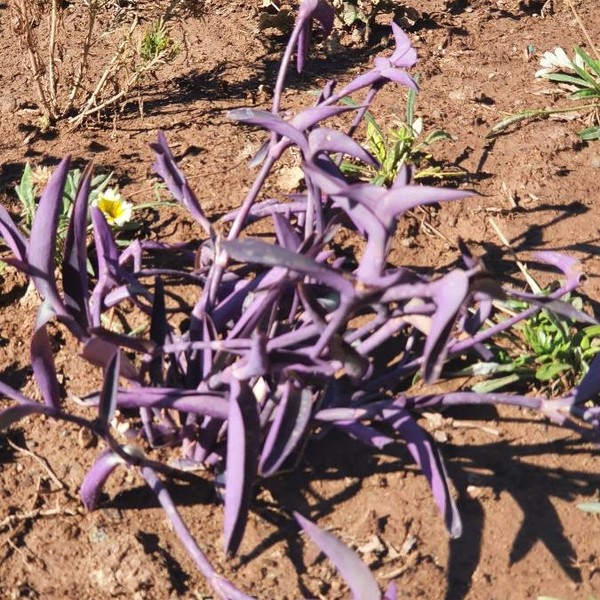obstacle: (77, 108, 555, 547)
